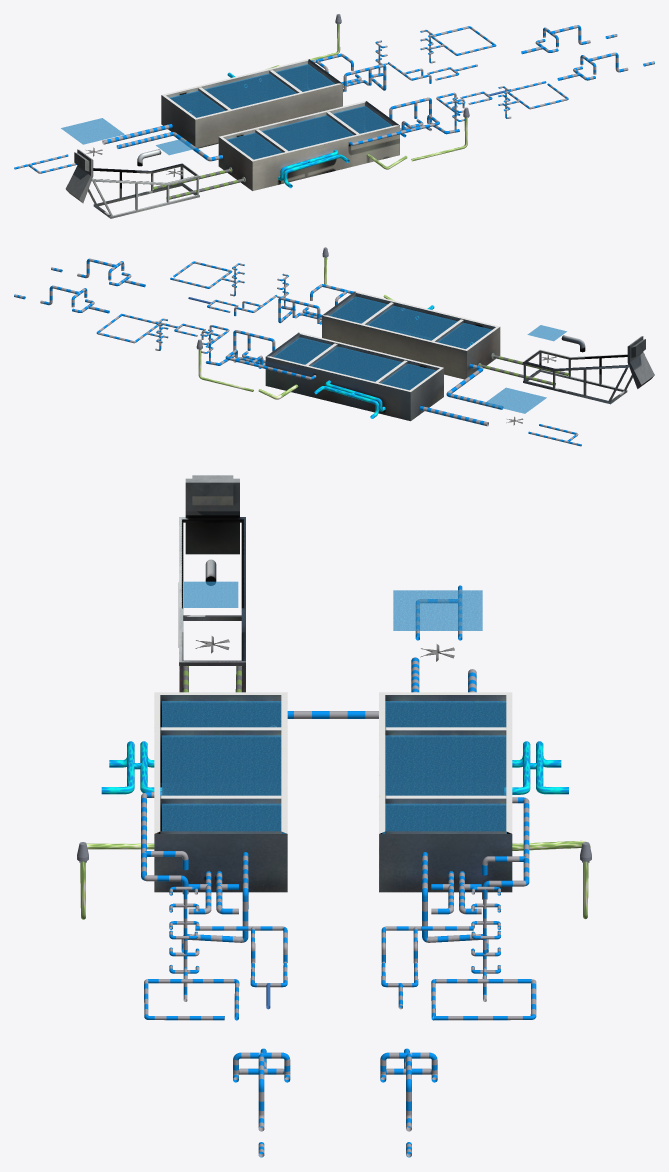
3 views of the same model, one above another, from view 1: azimuth 30°, elevation 25°; view 2: azimuth 150°, elevation 25°; view 3: azimuth 270°, elevation 25° (orthographic). The views are drawn at different scales.
Visible parts, largest first — view 1: 池子1, 池子2, 水4_move, 水3_move, 支架, 水1_move, guandao_move.422, guandao_move.446, guandao_move.401, 水2_move, guandao_move.433, guandao_move.418; view 2: 池子2, 池子1, 水4_move, 水3_move, 支架, 水1_move, guandao_move.422, guandao_move.383, 水2_move, guandao_move.418, guandao_move.446, guandao_move.433; view 3: 池子2, 池子1, 水4_move, 水3_move, 支架, 水1_move, 水2_move, guandao_move.422, guandao_move.383, guandao_move.418.
Boxes of the visible parts, bbox=[...] form: 池子1: bbox=[218, 101, 399, 190]; 池子2: bbox=[161, 59, 342, 148]; 水4_move: bbox=[169, 64, 334, 117]; 水3_move: bbox=[226, 106, 392, 159]; 支架: bbox=[65, 149, 199, 218]; 水1_move: bbox=[61, 118, 124, 144]; guandao_move.422: bbox=[116, 132, 222, 161]; guandao_move.446: bbox=[343, 64, 386, 91]; guandao_move.401: bbox=[348, 114, 439, 145]; 水2_move: bbox=[156, 138, 195, 155]; guandao_move.433: bbox=[102, 124, 172, 144]; guandao_move.418: bbox=[389, 97, 459, 134]; 池子2: bbox=[265, 332, 443, 421]; 池子1: bbox=[322, 291, 500, 379]; 水4_move: bbox=[273, 337, 436, 390]; 水3_move: bbox=[329, 296, 491, 348]; 支架: bbox=[523, 335, 654, 404]; 水1_move: bbox=[484, 387, 546, 413]; guandao_move.422: bbox=[446, 364, 503, 409]; guandao_move.383: bbox=[225, 349, 316, 379]; 水2_move: bbox=[527, 325, 566, 341]; guandao_move.418: bbox=[278, 297, 320, 323]; guandao_move.446: bbox=[205, 330, 275, 365]; guandao_move.433: bbox=[419, 406, 488, 426]; 池子2: bbox=[379, 692, 512, 892]; 池子1: bbox=[154, 692, 287, 892]; 水4_move: bbox=[382, 701, 506, 833]; 水3_move: bbox=[162, 701, 286, 833]; 支架: bbox=[178, 475, 245, 692]; 水1_move: bbox=[393, 590, 482, 630]; 水2_move: bbox=[184, 581, 238, 607]; guandao_move.422: bbox=[271, 657, 419, 726]; guandao_move.383: bbox=[482, 797, 529, 899]; guandao_move.418: bbox=[181, 852, 248, 952].
Size of the model in its own units: 67.46 by 6.88 by 25.75.
13 materials, 8 textured.
